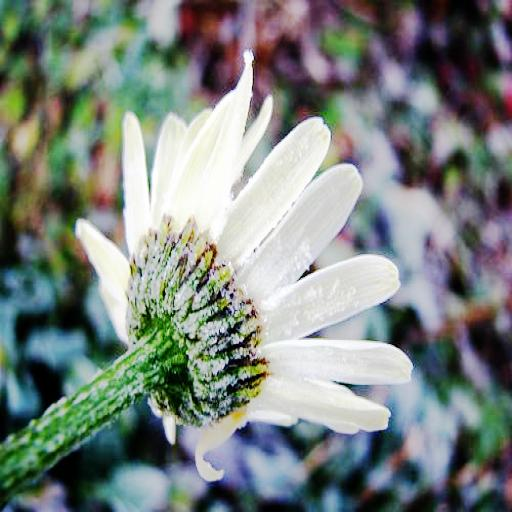daisy: (88, 105, 397, 445)
